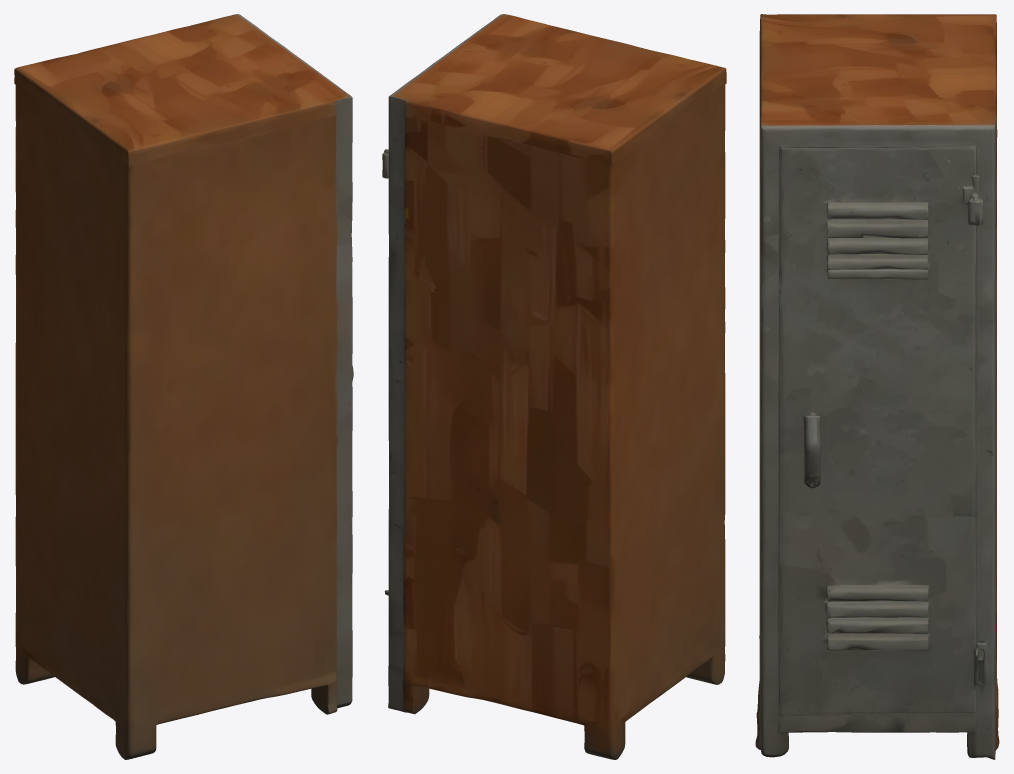
Rendered from locker.glb.
The picture shows the model from 3 angles, left to right: view 1: azimuth 30°, elevation 25°; view 2: azimuth 150°, elevation 25°; view 3: azimuth 270°, elevation 25°; orthographic projection. The views are drawn at different scales.
Parts seen in each view (by area): view 1: tripo_node_5ca25d7f-1451-4758-bc7d-be7743df49c8; view 2: tripo_node_5ca25d7f-1451-4758-bc7d-be7743df49c8; view 3: tripo_node_5ca25d7f-1451-4758-bc7d-be7743df49c8.
Part boxes in pixels (bbox=[...]): tripo_node_5ca25d7f-1451-4758-bc7d-be7743df49c8: bbox=[14, 14, 353, 759]; tripo_node_5ca25d7f-1451-4758-bc7d-be7743df49c8: bbox=[382, 14, 726, 759]; tripo_node_5ca25d7f-1451-4758-bc7d-be7743df49c8: bbox=[755, 14, 999, 759].
Size of the model in its own units: 0.4253 by 1 by 0.3491.
Materials: 1 (1 with a texture image).
